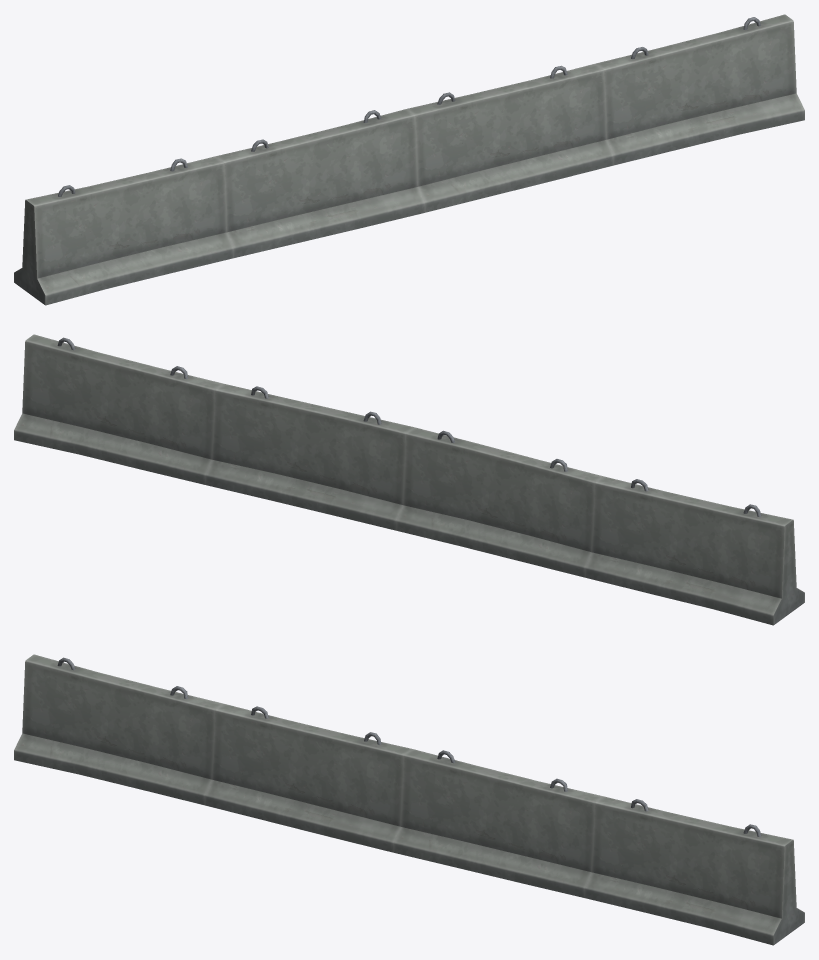
File: BarrierConcrete03_3.FBX
3 views of the same model, one above another, from view 1: azimuth 30°, elevation 25°; view 2: azimuth 150°, elevation 25°; view 3: azimuth 330°, elevation 25° (orthographic).
Visible parts, largest first — view 1: BarrierConcrete03_3; view 2: BarrierConcrete03_3; view 3: BarrierConcrete03_3.
Boxes of the visible parts, <box> form: BarrierConcrete03_3: <box>14,14,804,305</box>; BarrierConcrete03_3: <box>14,334,804,625</box>; BarrierConcrete03_3: <box>14,654,804,945</box>.
Size of what is drawn, in the model's own units: 6 by 0.7537 by 0.4303.
